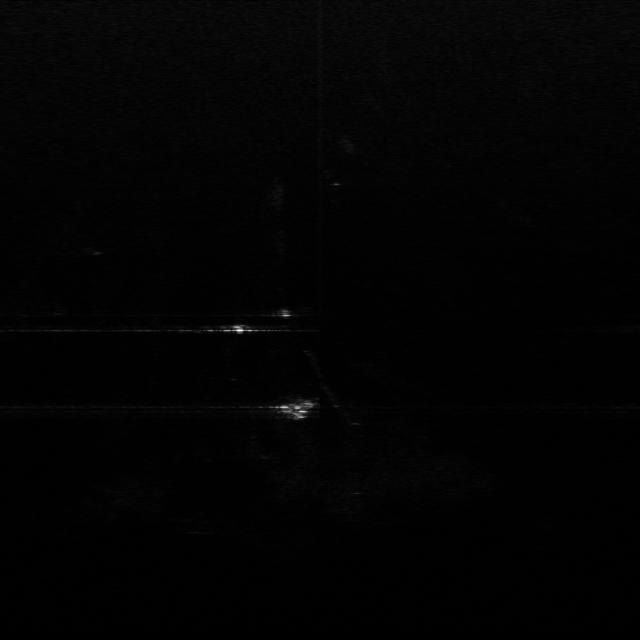rov: (276, 397, 316, 421)
